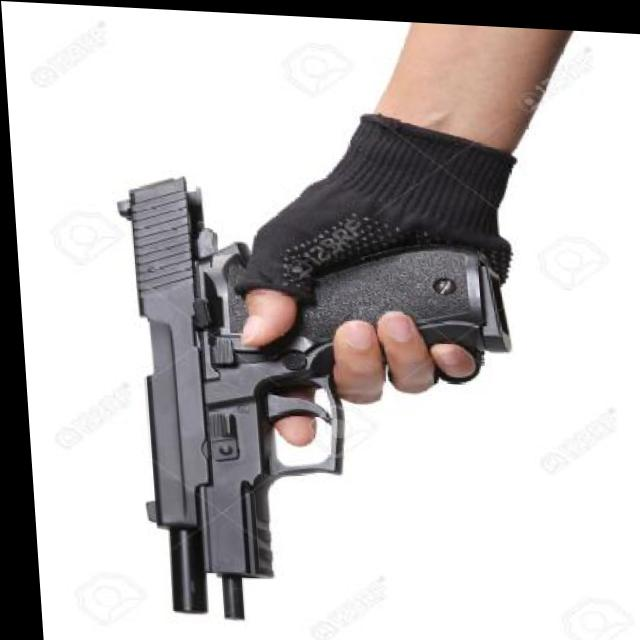handgun: (103, 171, 520, 629)
